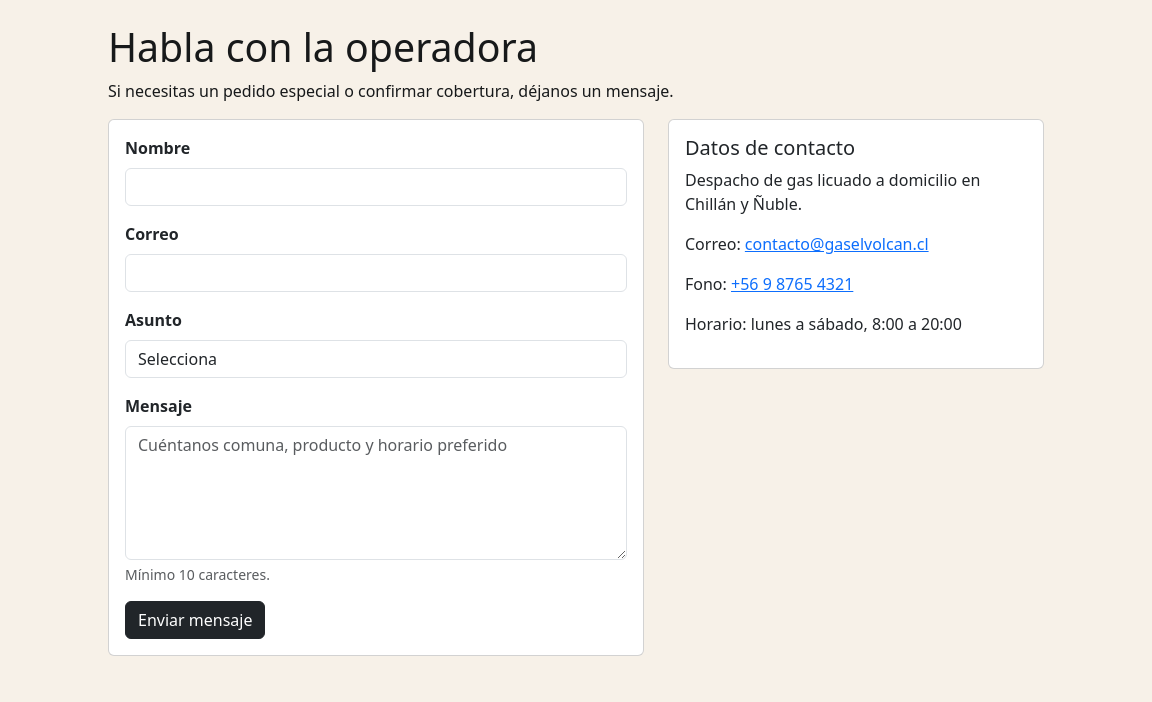
it: Contacto › muestra errores al enviar el formulario vacio
What coordinates should you click on to do the following:
click the button "Enviar mensaje"
I would click on:
 (195, 620)
Its box is [125, 601, 266, 639].
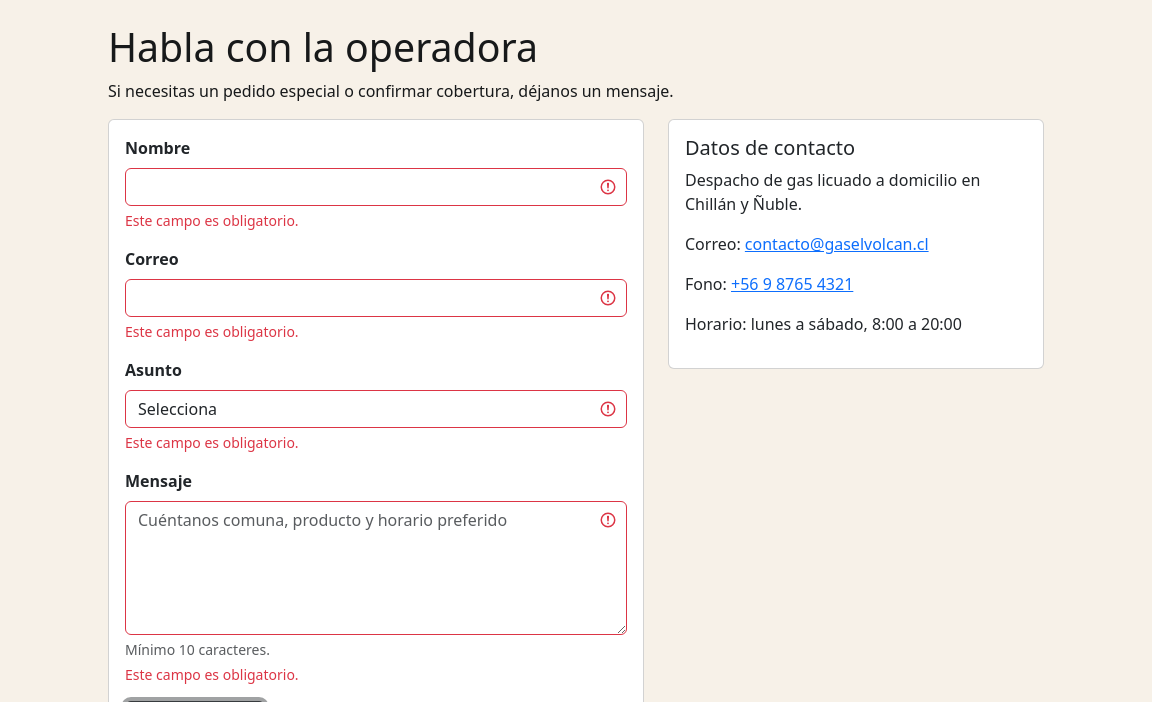
Check: the text "Este campo es obligatorio." below "Nombre" is shown, box [125, 211, 299, 230]
